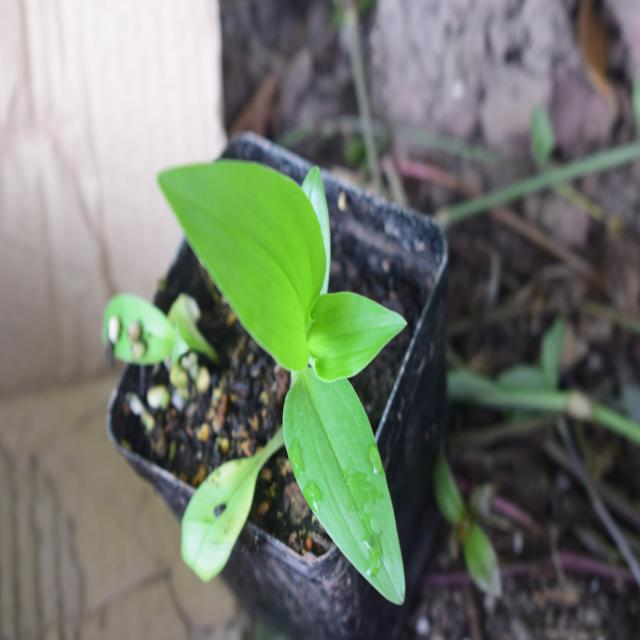Common Dayflower: (169, 135, 428, 581)
